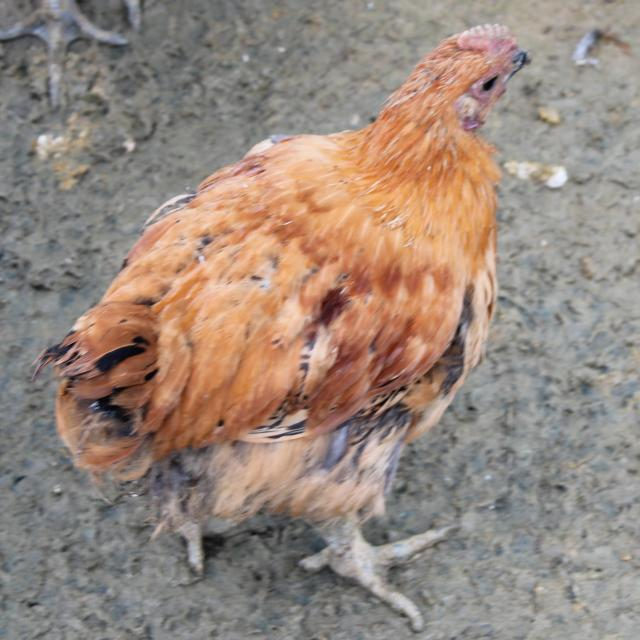hen: (2, 0, 546, 635)
